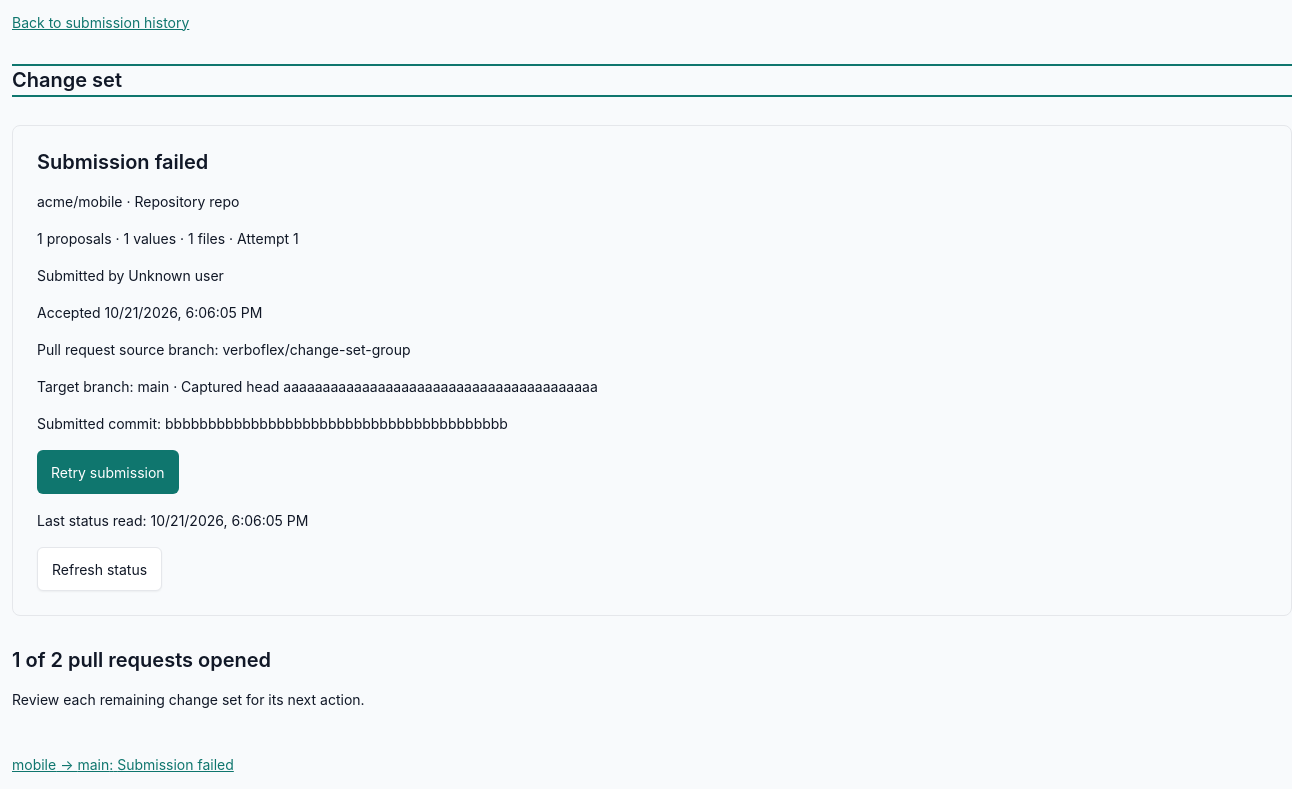
reloads frozen detail, retains successful sibling, and retries only failed group once
Expected: the heading "1 of 2 pull requests opened" is shown, x1=12 y1=648 x2=271 y2=672
Double-click the button "Retry submission": coordinates (108, 472) x1=37 y1=450 x2=179 y2=494
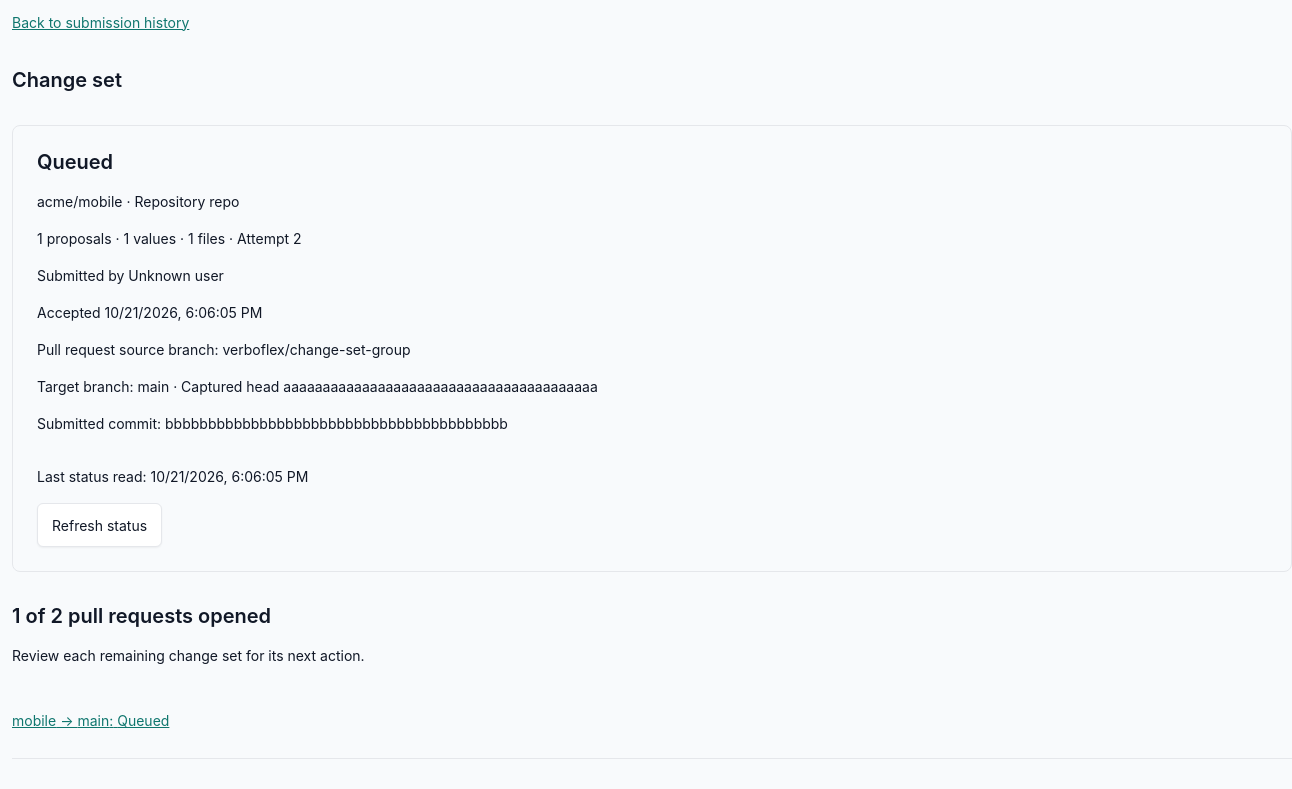
Now the heading "Queued" is shown, box x1=37 y1=150 x2=113 y2=174
Now the button "Retry submission" is gone
